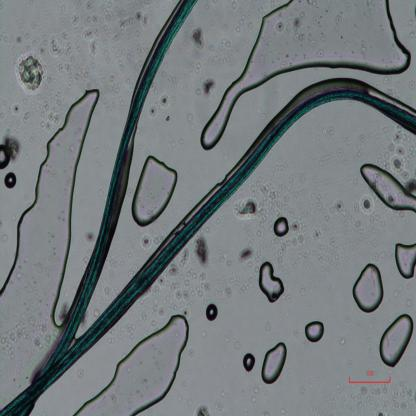Air bubble: (198, 0, 412, 153), (0, 88, 103, 314), (75, 313, 191, 415), (359, 162, 416, 218), (135, 156, 178, 228), (352, 261, 384, 314), (258, 258, 285, 305), (261, 341, 287, 385), (394, 240, 416, 280), (304, 321, 326, 343), (272, 215, 290, 238), (240, 351, 257, 374), (0, 143, 11, 170), (4, 172, 18, 191), (204, 303, 218, 321)
Background material: (155, 260, 212, 325), (45, 28, 93, 84), (80, 0, 118, 68), (350, 380, 416, 416), (256, 180, 294, 236), (377, 314, 415, 368), (0, 316, 54, 352), (15, 50, 47, 94), (113, 35, 148, 75), (114, 3, 152, 36), (39, 90, 68, 131), (97, 67, 126, 107), (383, 130, 408, 176), (212, 273, 252, 300), (338, 209, 365, 238), (232, 194, 262, 219), (288, 219, 306, 260), (206, 37, 229, 68), (310, 176, 330, 210), (275, 152, 300, 179), (7, 102, 31, 128), (309, 224, 328, 256), (194, 235, 211, 270), (148, 94, 171, 117), (188, 24, 207, 50), (24, 28, 46, 50), (236, 242, 256, 266), (215, 247, 231, 272), (198, 78, 218, 98), (58, 7, 76, 29), (59, 294, 73, 320), (162, 69, 180, 89), (194, 397, 211, 416), (368, 248, 391, 262), (294, 12, 305, 41), (42, 227, 57, 245), (274, 16, 285, 36), (404, 175, 416, 193), (27, 280, 41, 295), (186, 58, 201, 72), (344, 354, 356, 368), (8, 33, 22, 45), (224, 328, 234, 344), (174, 136, 188, 147), (296, 282, 307, 296), (35, 263, 48, 274), (164, 138, 177, 149), (186, 107, 194, 124), (47, 165, 57, 178), (330, 203, 342, 213), (125, 184, 134, 197), (404, 296, 414, 307), (257, 53, 266, 65), (297, 382, 306, 394), (363, 335, 373, 345), (75, 370, 86, 379), (17, 269, 26, 280), (0, 232, 7, 245), (260, 111, 270, 120), (11, 292, 21, 300), (338, 338, 346, 348), (250, 396, 259, 404), (356, 319, 364, 328), (188, 348, 195, 358), (366, 321, 374, 329), (344, 314, 352, 322), (266, 322, 273, 331), (309, 38, 315, 48), (254, 384, 260, 394), (281, 58, 286, 70), (136, 140, 143, 148), (370, 240, 378, 247), (259, 411, 269, 416), (87, 233, 94, 240), (274, 90, 280, 98), (68, 144, 74, 152), (99, 188, 103, 198), (224, 150, 228, 160), (235, 342, 240, 350), (395, 288, 399, 297), (220, 390, 225, 396), (139, 129, 144, 134), (369, 349, 372, 353)
Microfibre: (1, 90, 416, 414), (0, 1, 198, 415)
